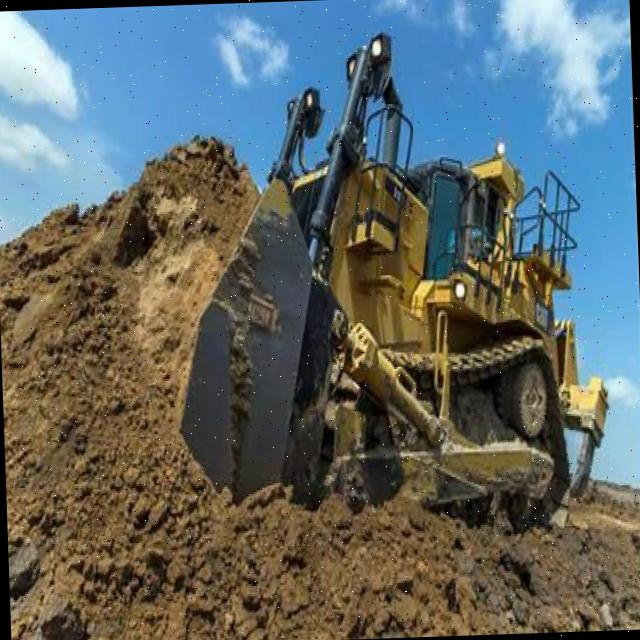Bulldozer: (84, 31, 610, 566)
